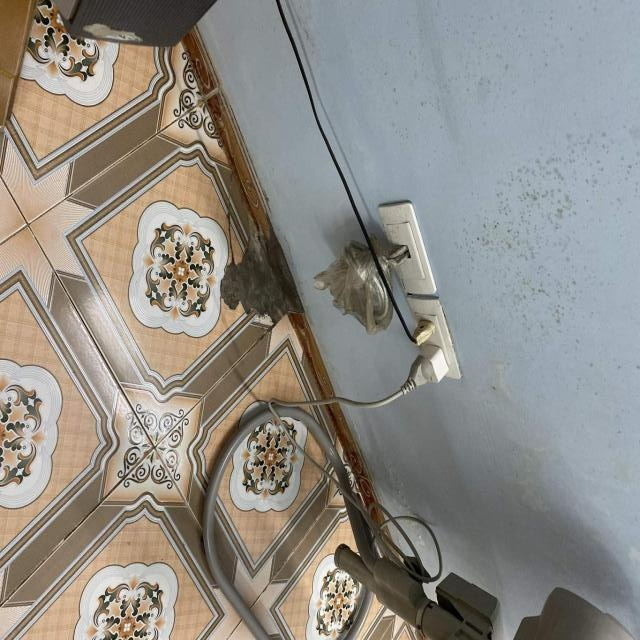outlet: (378, 201, 437, 295), (406, 296, 462, 381)
